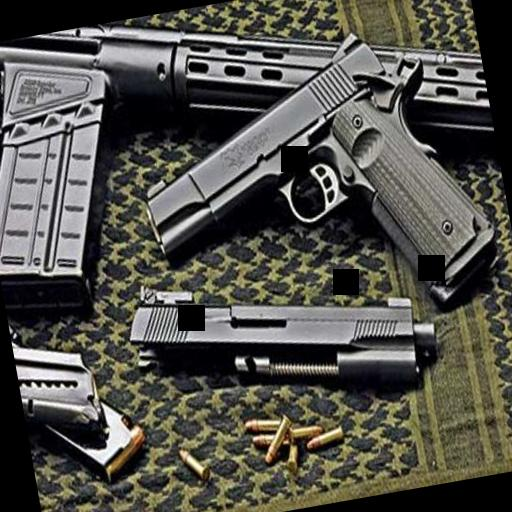Handgun: (119, 8, 507, 344)
